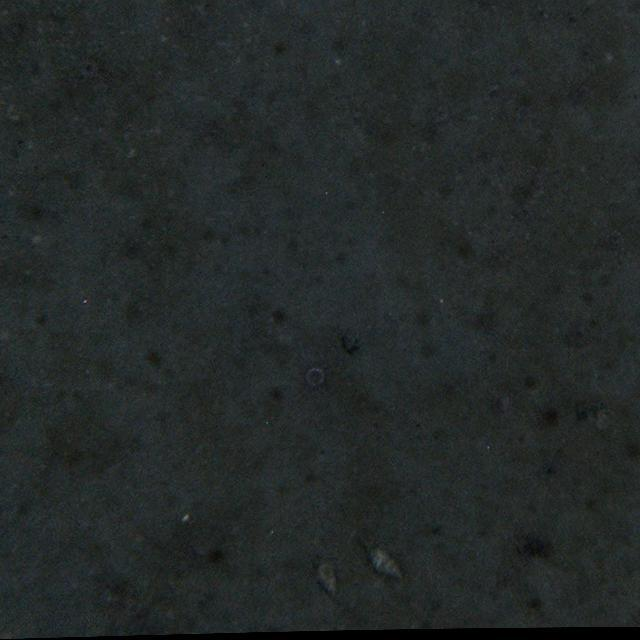whelk: (363, 543, 406, 582)
